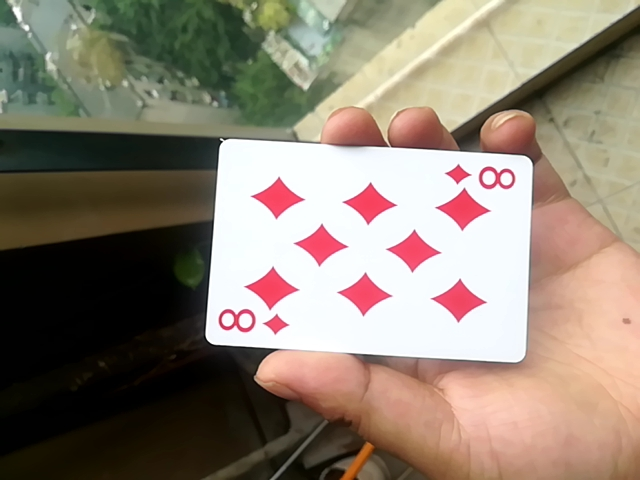fk 8: (197, 136, 536, 364)
